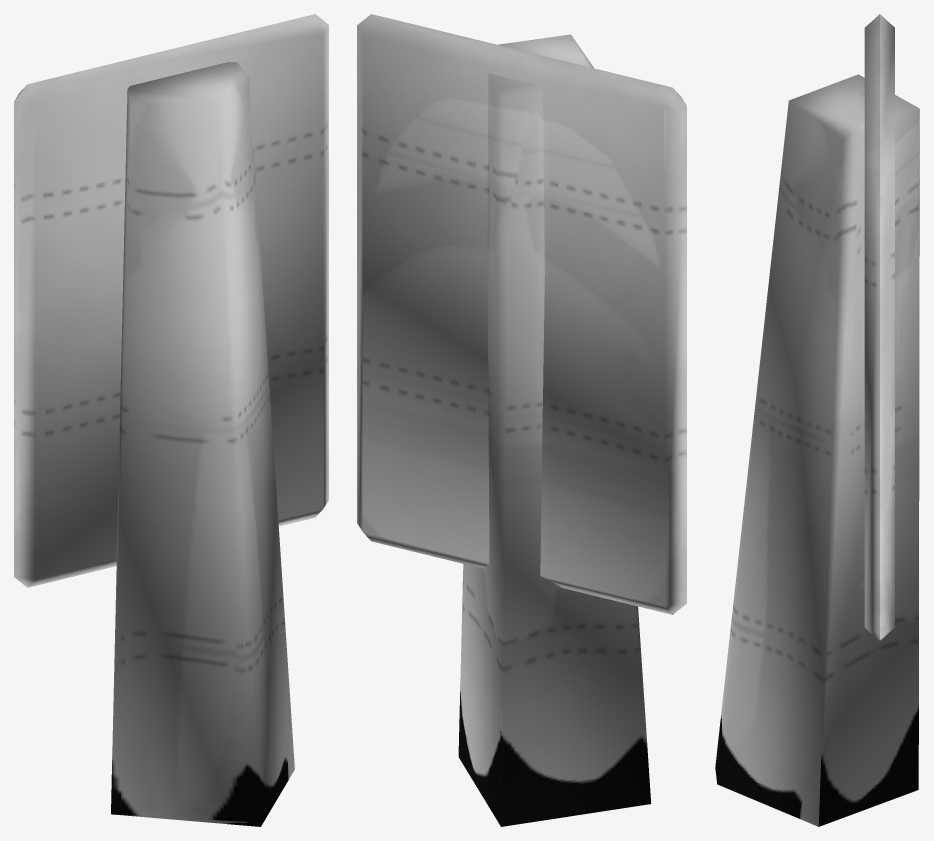
Rendered from UpperTorso_C2.fbx.
The picture shows the model from 3 angles, left to right: view 1: azimuth 30°, elevation 25°; view 2: azimuth 150°, elevation 25°; view 3: azimuth 270°, elevation 25°; orthographic projection. The views are drawn at different scales.
Parts seen in each view (by area): view 1: Civ_SacoOficina_UpperTorso_C2; view 2: Civ_SacoOficina_UpperTorso_C2; view 3: Civ_SacoOficina_UpperTorso_C2.
Boxes of the visible parts, left/top/right/bottom form: Civ_SacoOficina_UpperTorso_C2: left=14, top=14, right=328, bottom=826; Civ_SacoOficina_UpperTorso_C2: left=357, top=14, right=686, bottom=826; Civ_SacoOficina_UpperTorso_C2: left=715, top=14, right=919, bottom=826.
Bounding box in the file's own units: 0.5 × 1.1 × 0.2887.
